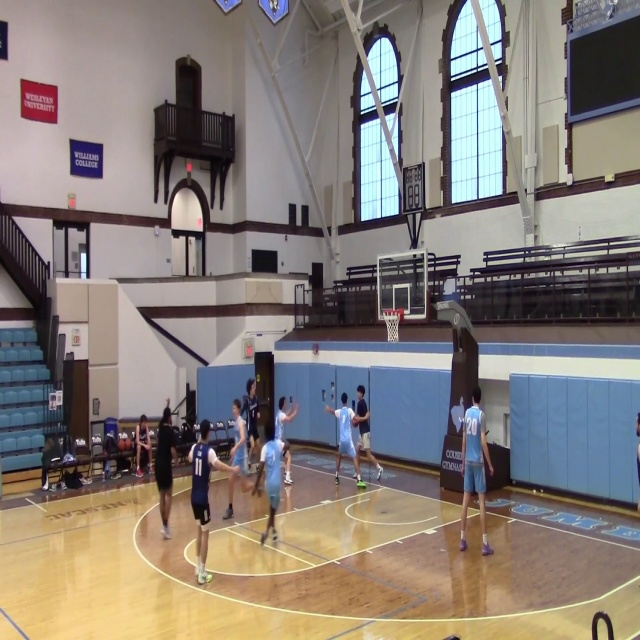Basketball: (117, 432, 131, 450), (117, 439, 131, 450), (351, 417, 359, 427)
